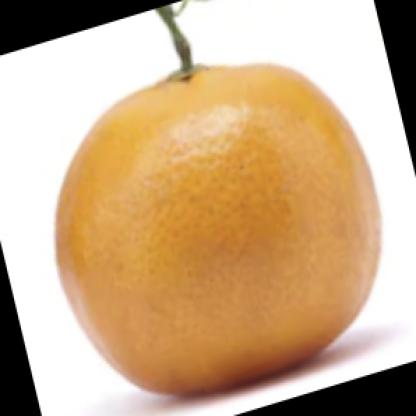orange: (50, 48, 385, 400)
